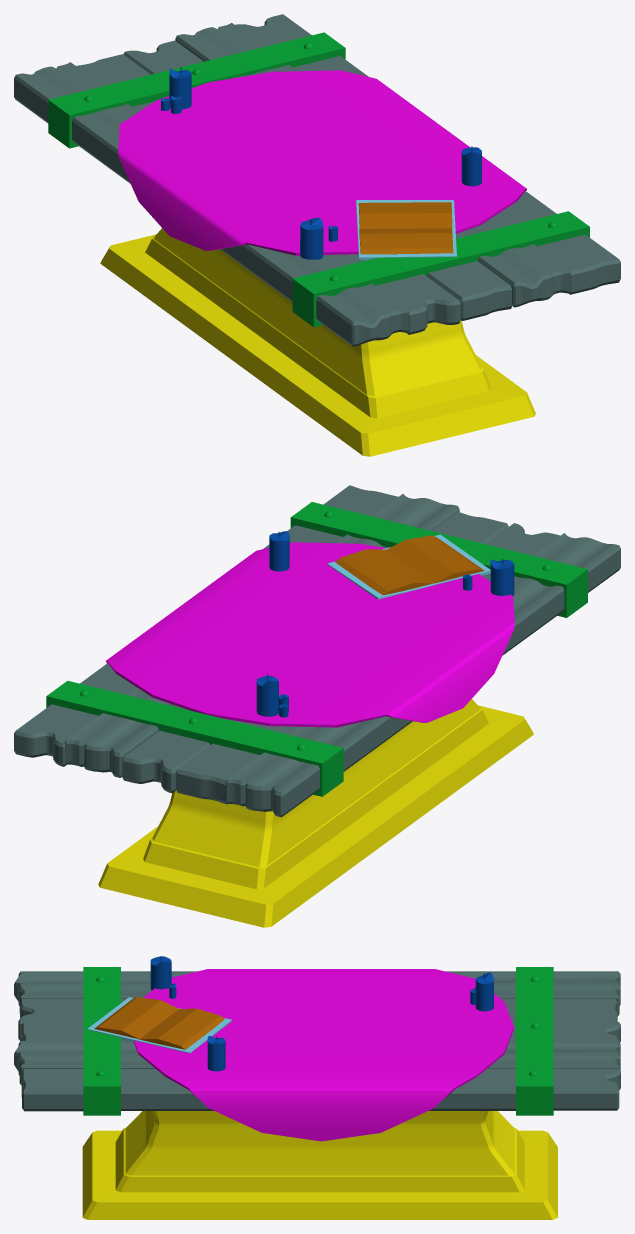
Rendered from NIBBA.fbx.
3 renders of one model, top to bottom at view 1: azimuth 30°, elevation 25°; view 2: azimuth 150°, elevation 25°; view 3: azimuth 270°, elevation 25°, orthographic. The views are drawn at different scales.
Visible parts, largest first — view 1: pCylinder7; view 2: pCylinder7; view 3: pCylinder7.
Part boxes in pixels (<box>): pCylinder7: <box>14,14,620,456</box>; pCylinder7: <box>14,485,620,927</box>; pCylinder7: <box>14,956,620,1219</box>.
Bounding box in the file's own units: 2.8 × 1.99 × 5.76.
